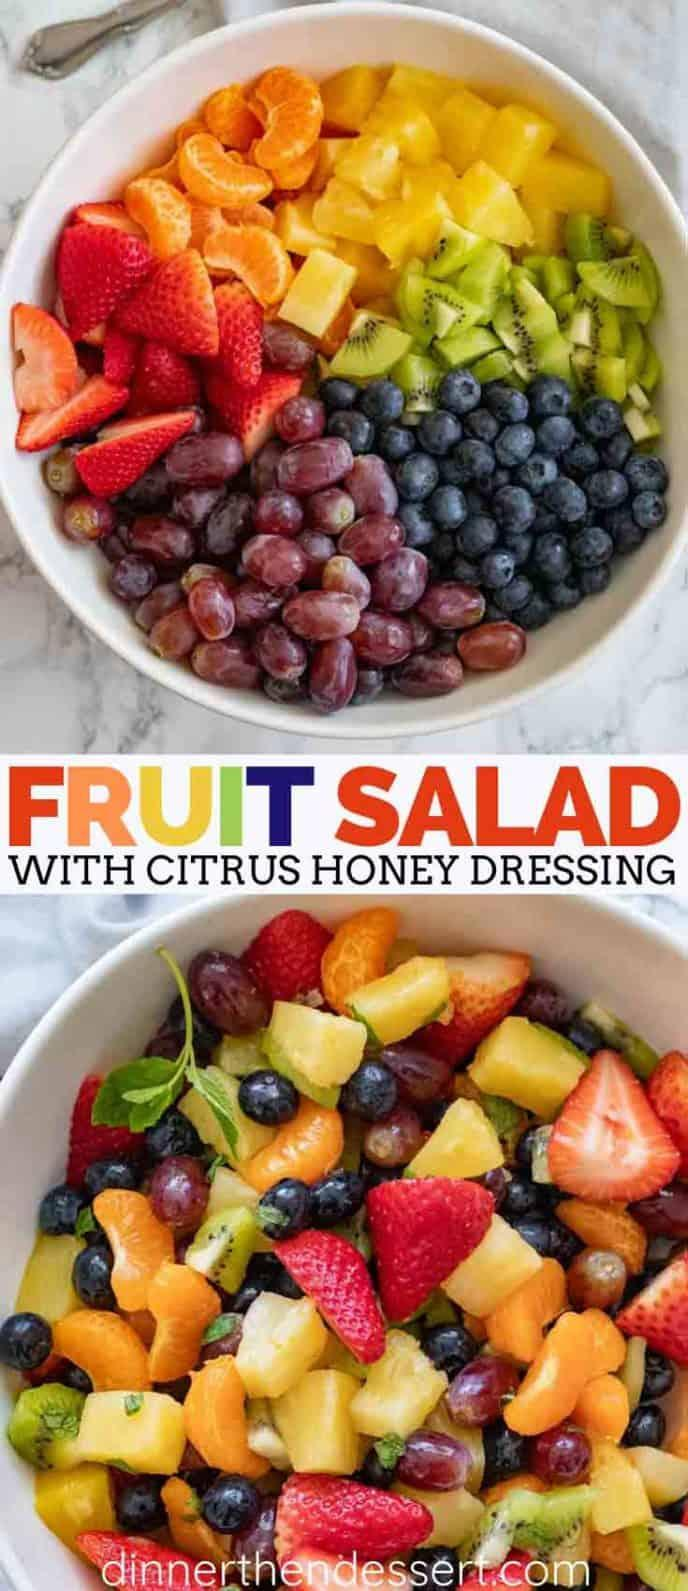apple: (348, 958, 459, 1054)
